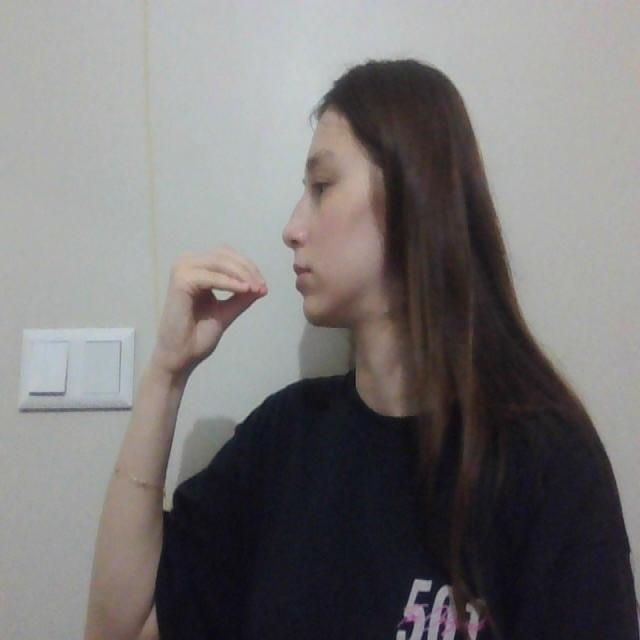Yemek: (169, 242, 334, 328)
